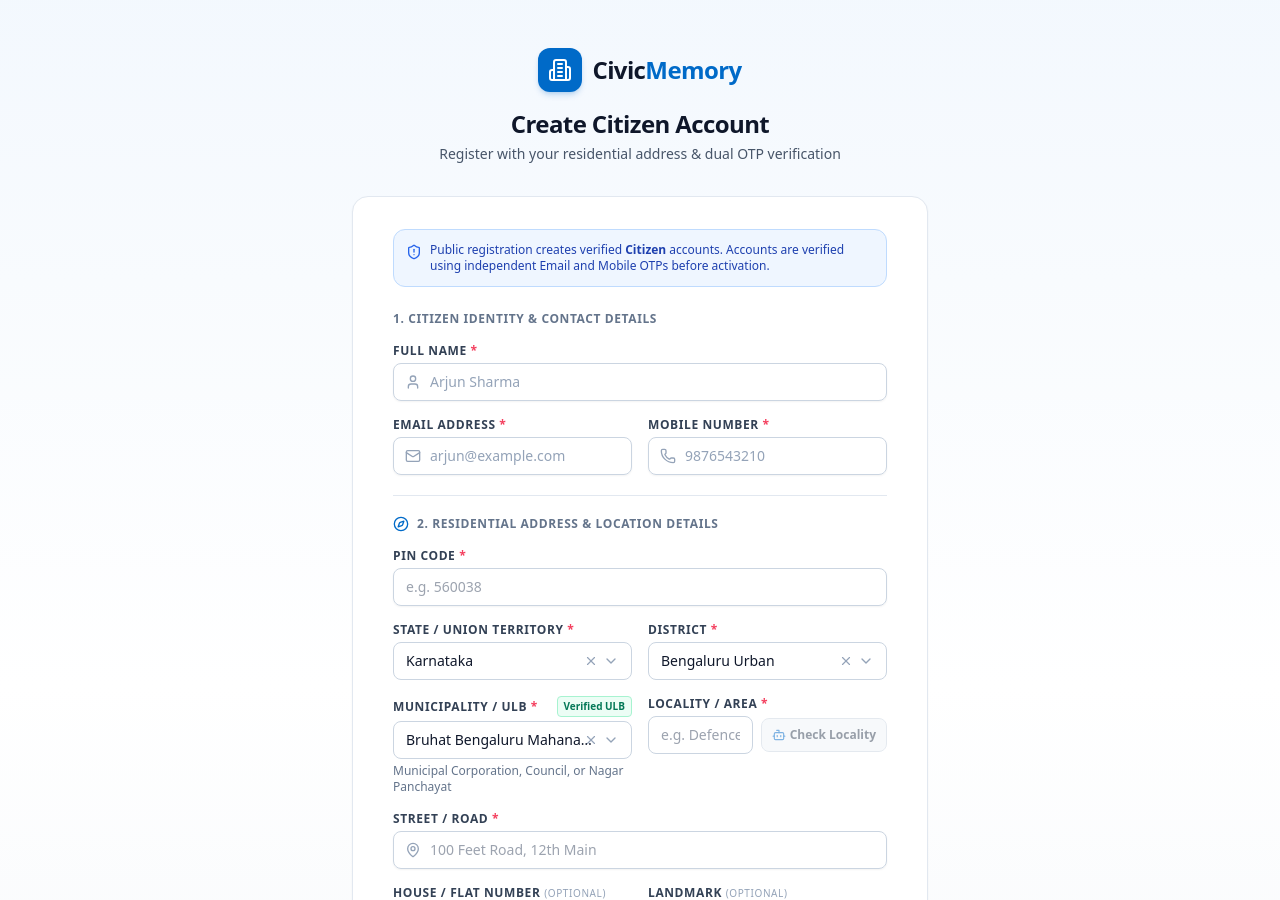
Test: RegisterPage — Citizen Registration & Address Selection Enhancement › 6. Conflicting postal records show warning and require manual selection
In the field with placeholder "e.g. 560038": (640, 587) [393, 568, 887, 606], type "111222"
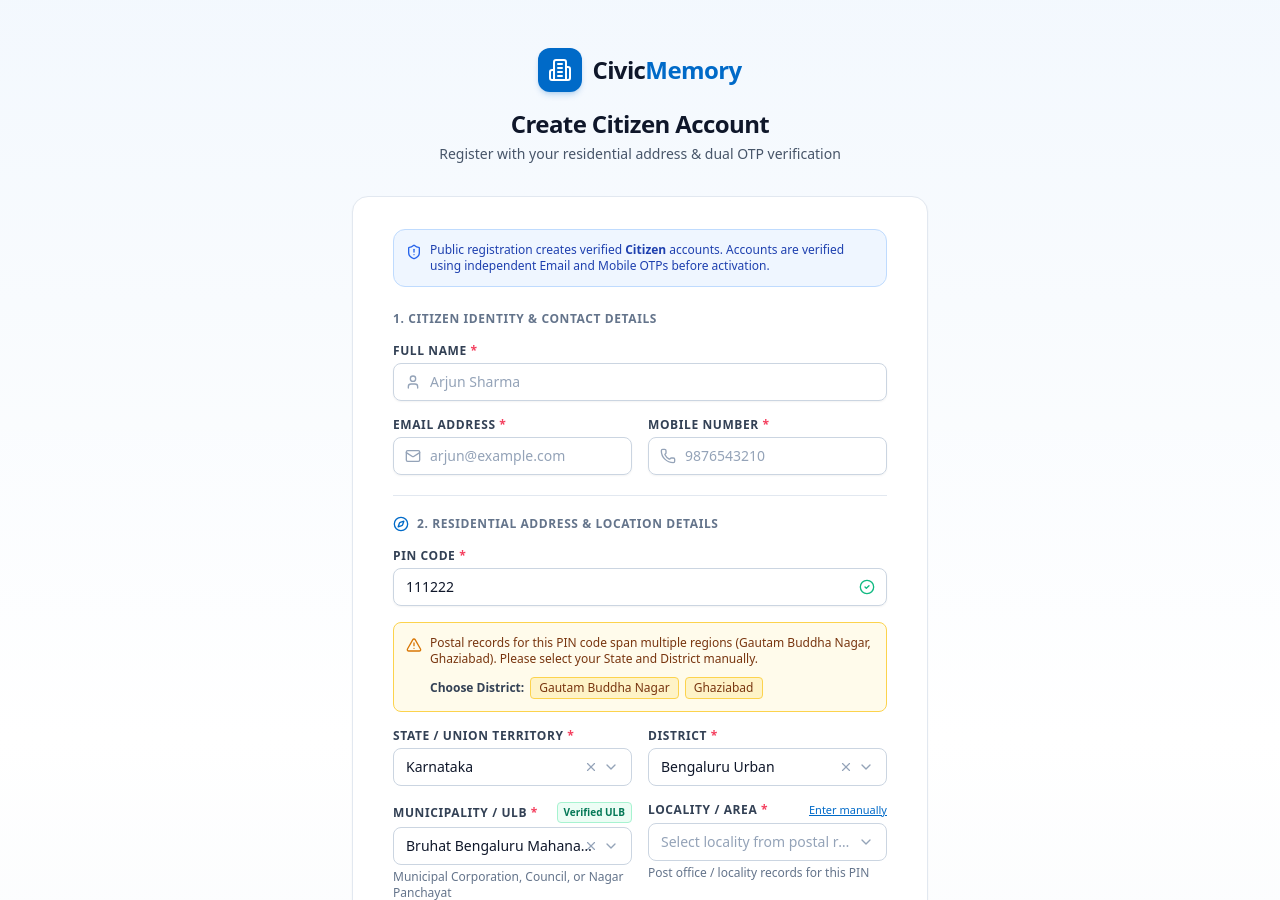
Expected: the text "gautam buddha nagar, ghaziabad" is shown, [430, 634, 871, 667]
